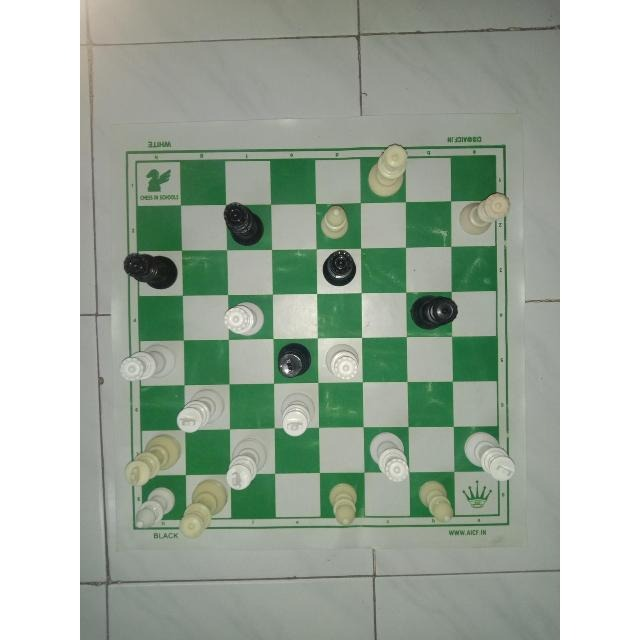black-king: (273, 339, 317, 387)
black-queen: (118, 249, 184, 299), (317, 242, 363, 292), (219, 196, 266, 244), (414, 289, 464, 333)
white-bishop: (127, 481, 179, 538), (419, 476, 459, 529), (316, 201, 366, 243), (329, 480, 363, 530)
white-king: (124, 434, 180, 492), (462, 432, 516, 484), (225, 434, 269, 495), (179, 390, 227, 444), (273, 384, 312, 441)
white-queen: (178, 474, 226, 541), (362, 429, 414, 485), (459, 190, 514, 237), (119, 344, 179, 387), (367, 141, 410, 201), (228, 296, 270, 340), (326, 336, 366, 380)
